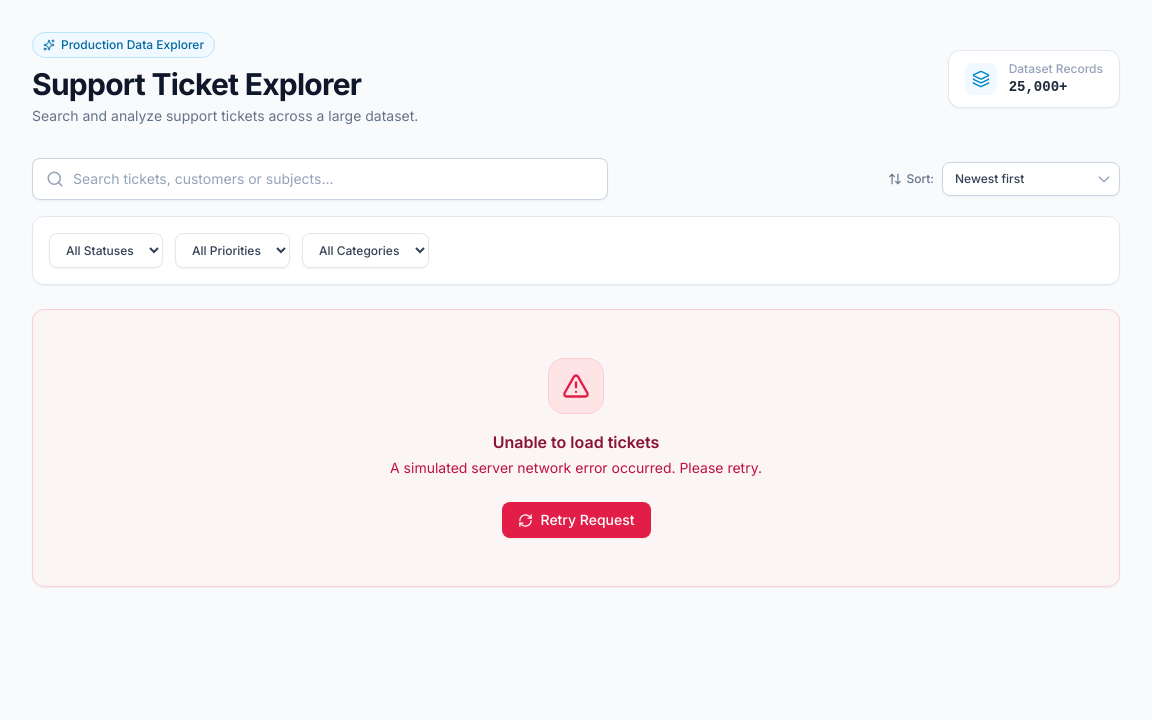
Test case: Error State and Retry Behavior › renders honest error state on API 500 failure and refetches when Retry is clicked
expect the heading "Unable to load tickets" is shown: met, box x1=493 y1=430 x2=659 y2=454
Click the button "Retry Request".
click(576, 520)  # box x1=502 y1=502 x2=650 y2=538
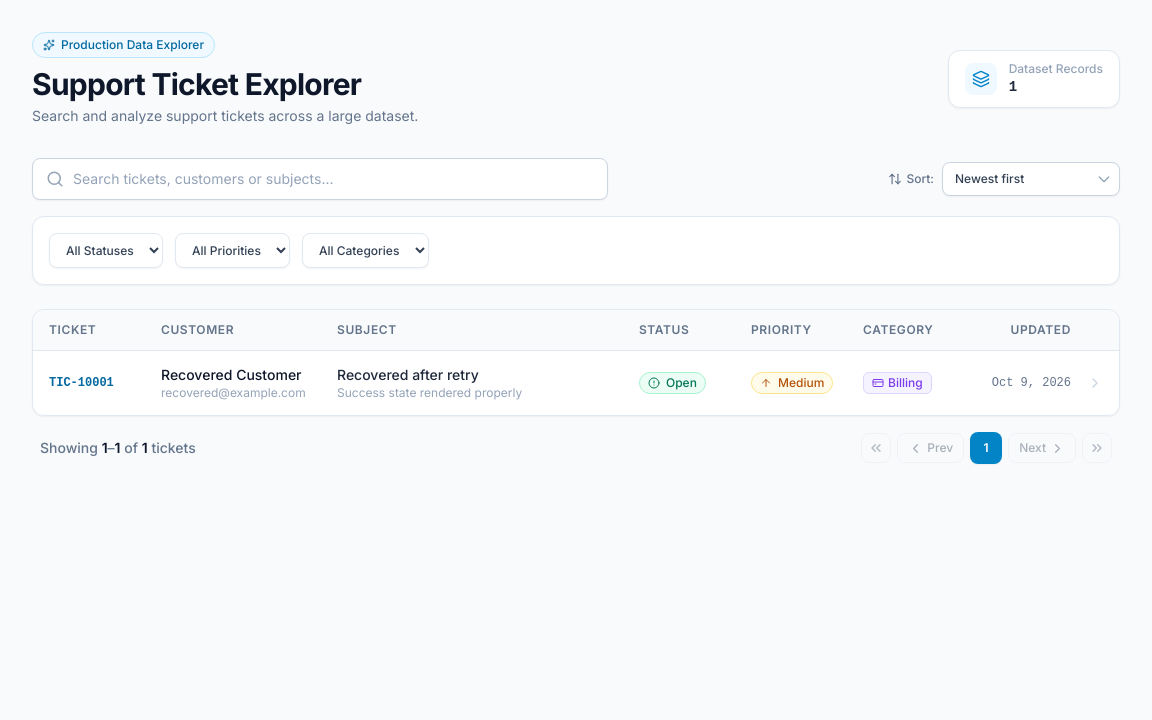
expect the text "Recovered Customer" is shown: met, box x1=161 y1=365 x2=325 y2=385
expect the heading "Unable to load tickets" is gone: met
